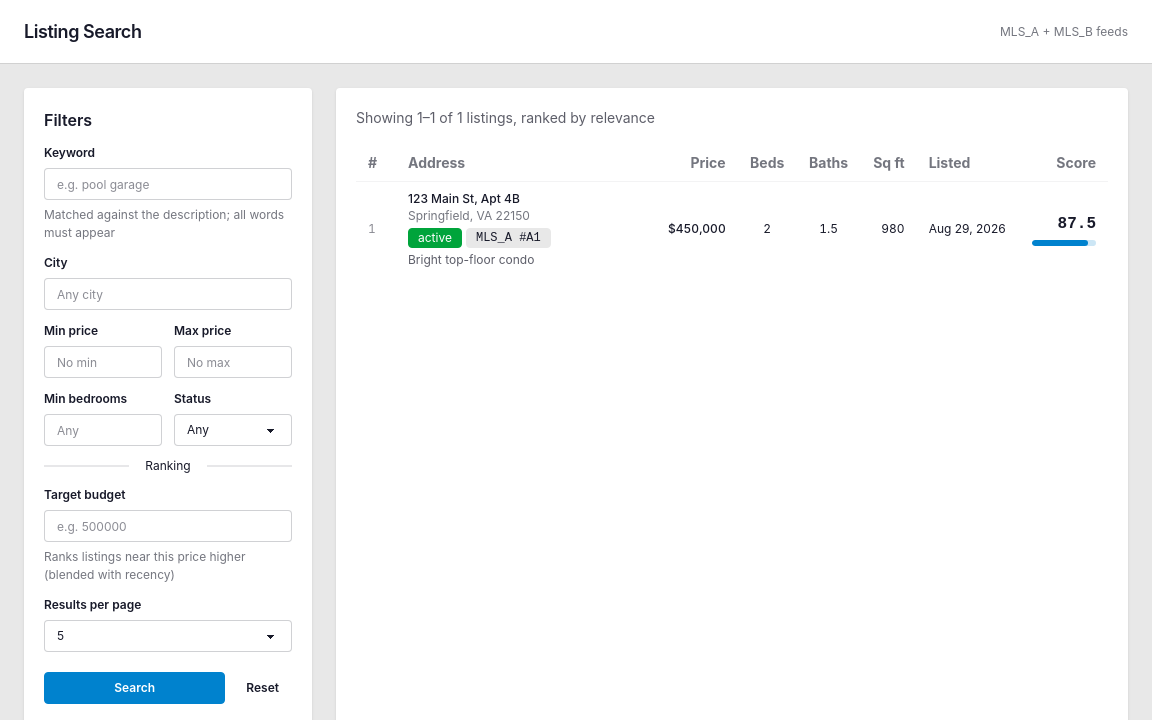
Test: App (integration with Redux store, API mocked) › highlights the field named in a server-side validation error
Expected: the table is shown, [356,144,1108,276]
Type "pool" into the field labelled "Keyword" at [168, 184], box [44,168,292,200]
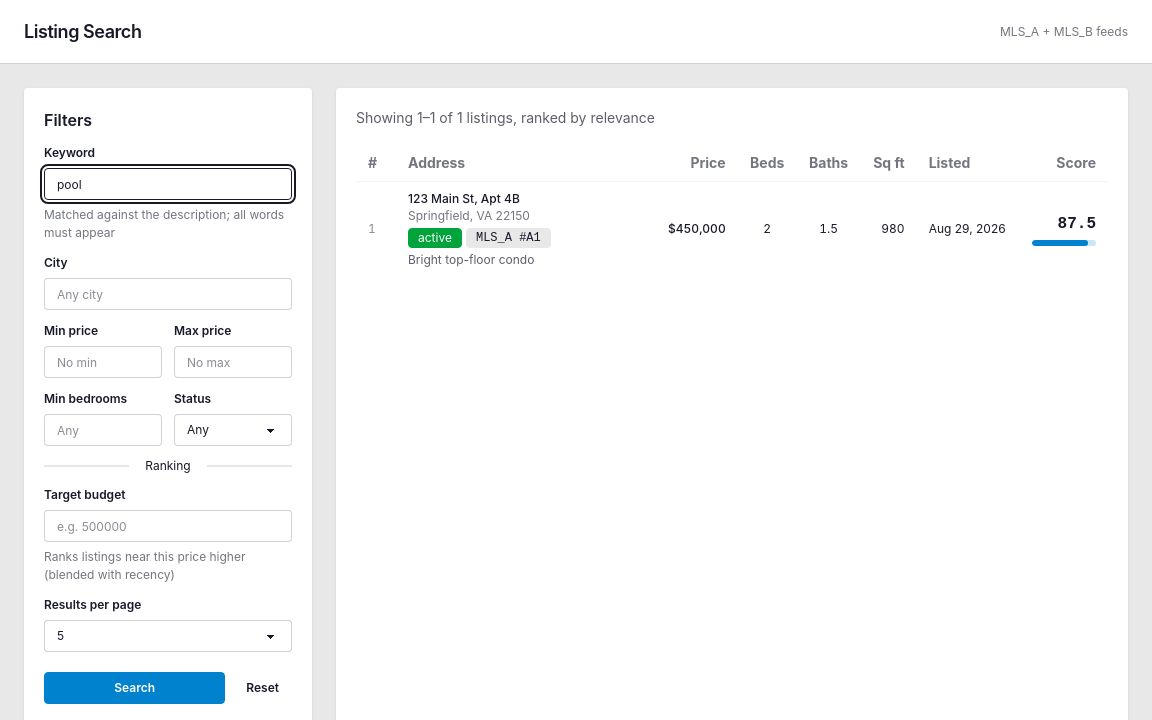
Click the button "Search" at [135, 688], box [44,672,225,704]
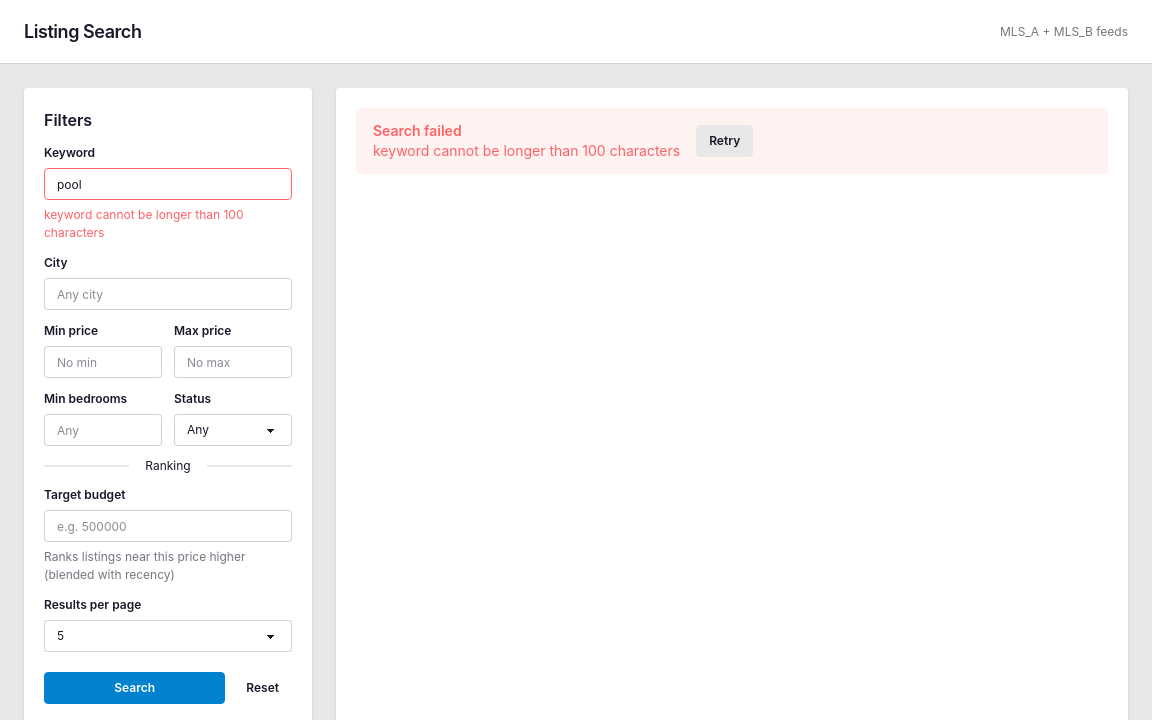
Expected: the heading "Search failed" is shown, [373,122,462,139]
Expected: the text "keyword cannot be longer than 100 characters" is shown, [44,207,244,240]
